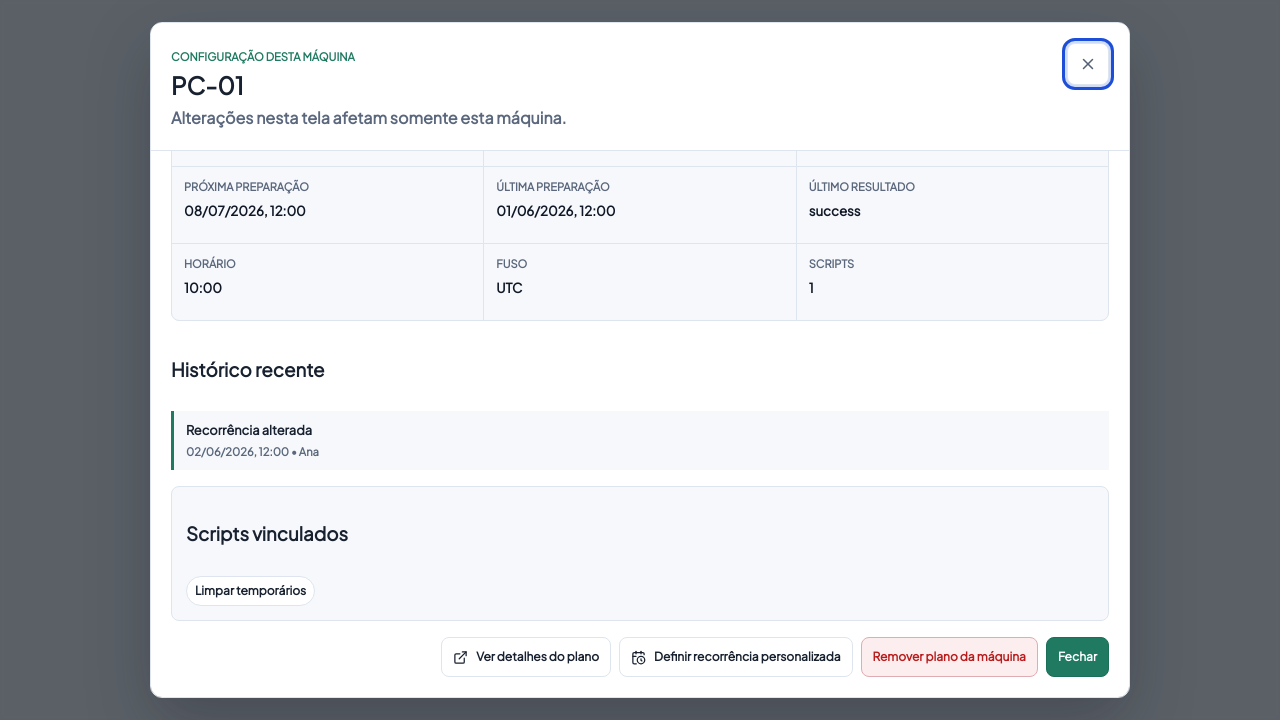
Test: AutomationMachineDetails - recorrência personalizada › valida e salva a recorrência desta máquina
This screenshot has width=1280, height=720.
(page scrolled)
Expected: the text "Recorrência alterada" is shown, [186,422,312,438]
Step 1. Click the button "Definir recorrência personalizada" → (736, 657), box [619,637,853,677]
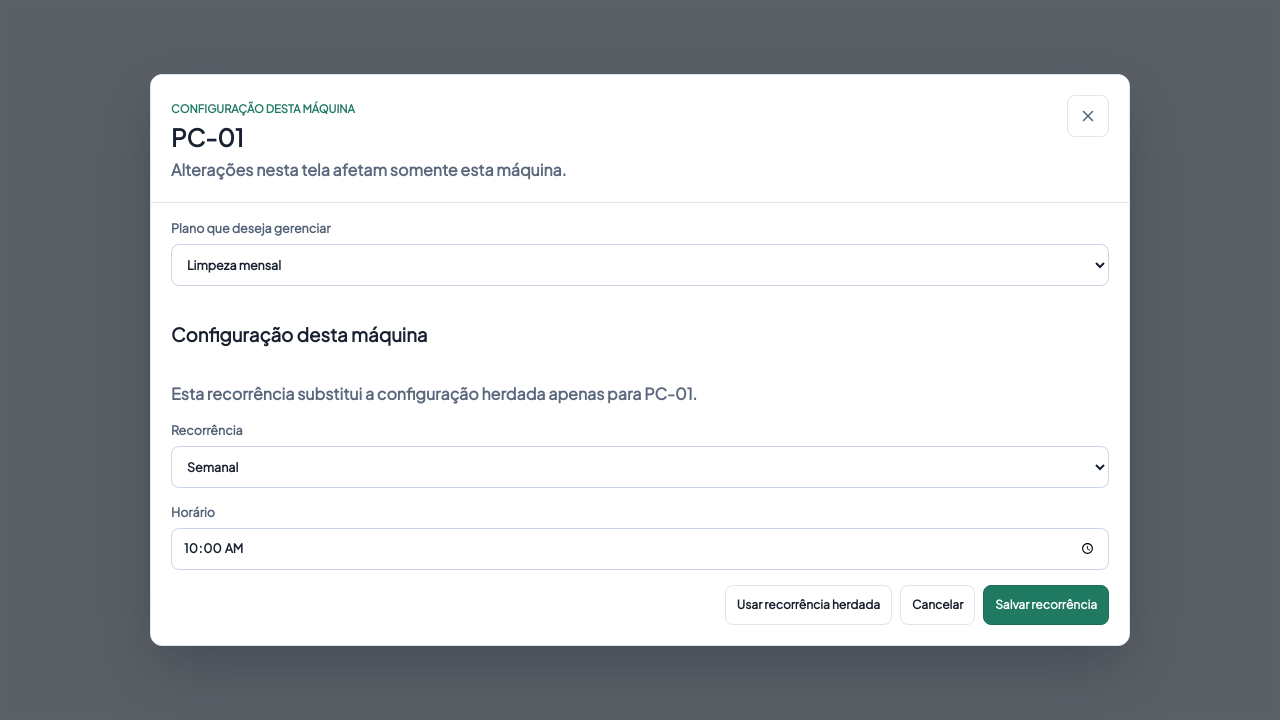
Expected: the text "Esta recorrência substitui a configuração herdada apenas para PC-01." is shown, [171,383,697,404]
Step 2. Select "Personalizada" in the dropdown labelled "Recorrência" → (640, 467), box [171,446,1109,488]
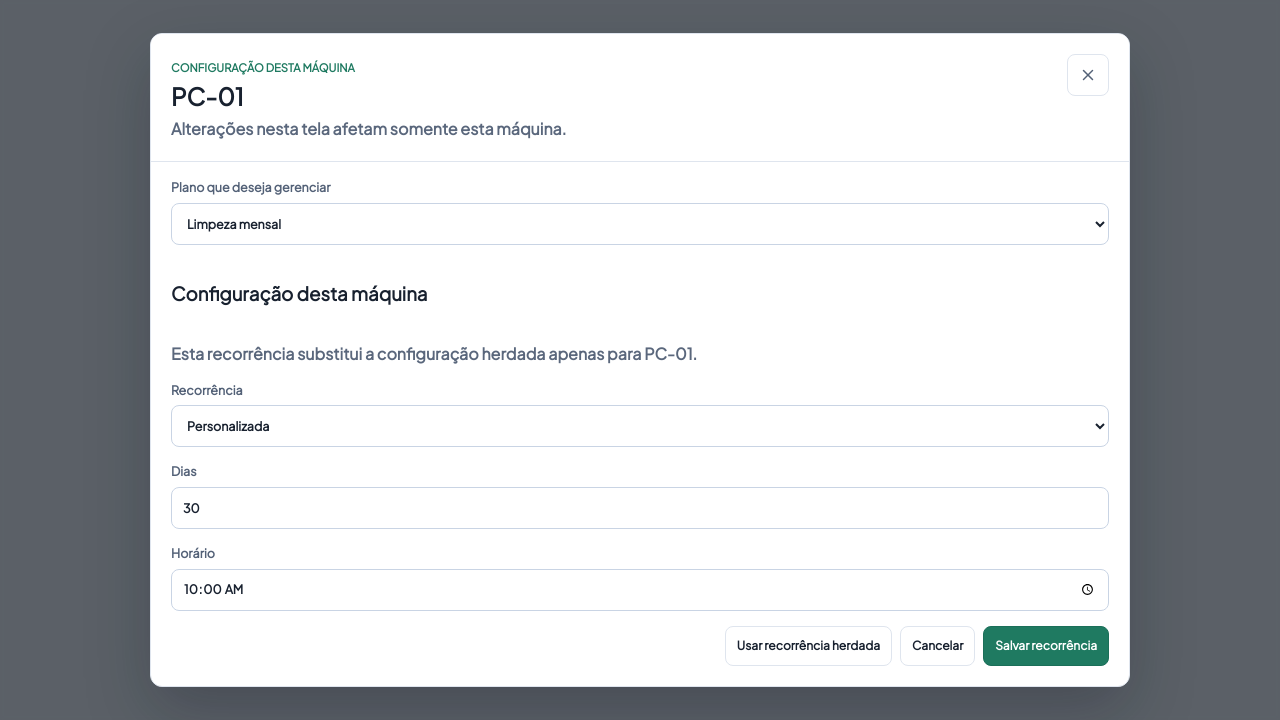
Step 3. Replace the text in the number field labelled "Dias" with "500" → (640, 508), box [171,487,1109,529]
Step 4. Click the button "Salvar recorrência" → (1046, 646), box [983,626,1109,666]
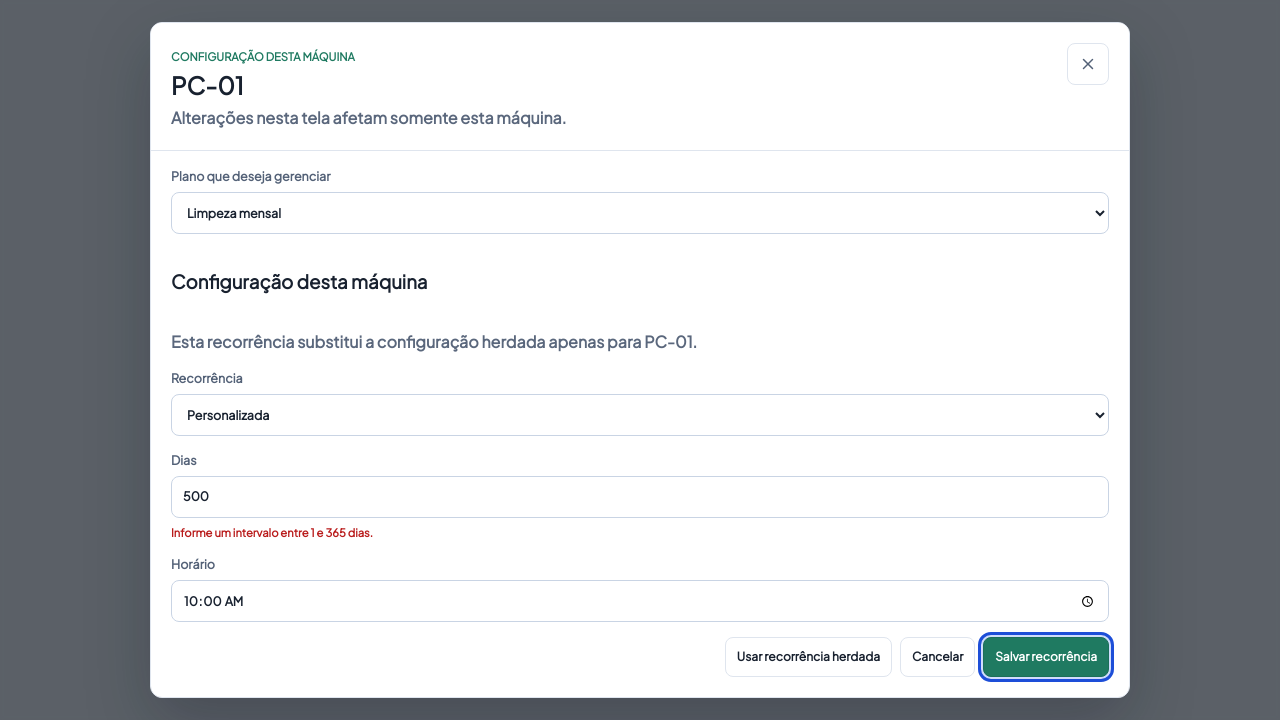
Expected: the text "Informe um intervalo entre 1 e 365 dias." is shown, [171,525,373,539]
Step 5. Replace the text in the number field labelled "Dias Informe um intervalo entre 1 e 365 dias." with "20" → (640, 497), box [171,476,1109,518]
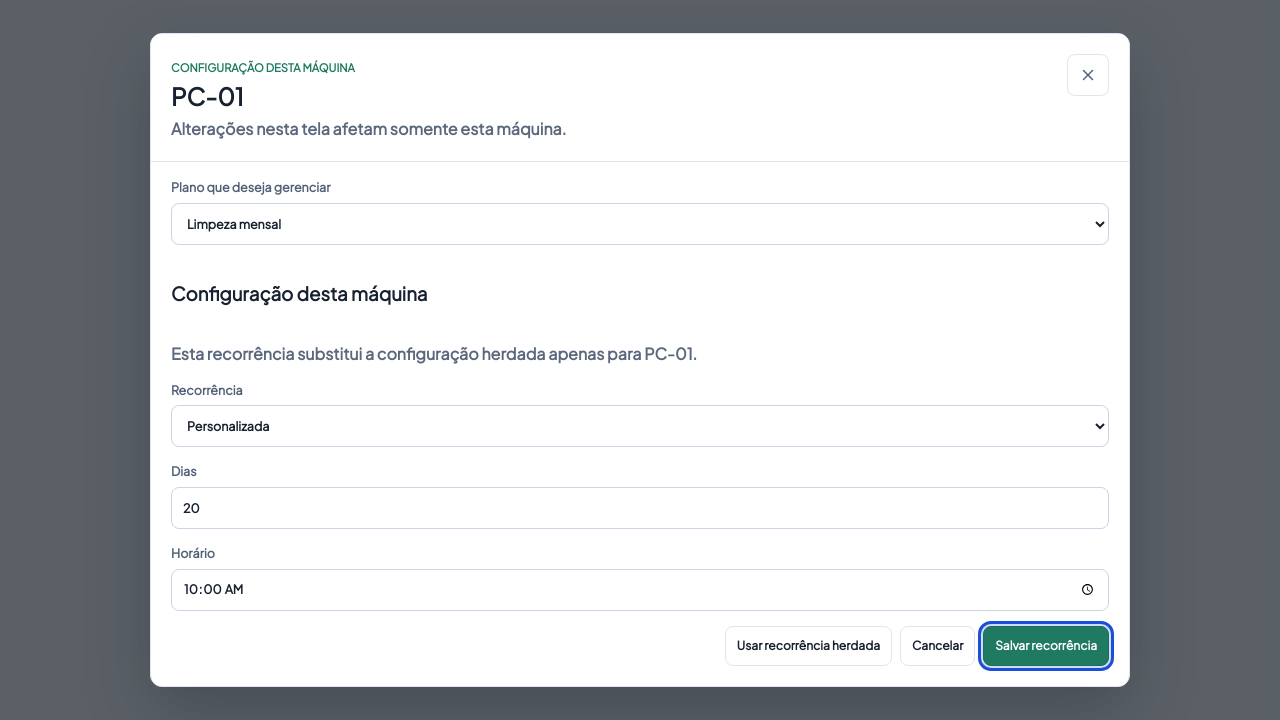
Step 6. Replace the text in the time field labelled "Horário" with "22:30" → (640, 590), box [171,569,1109,611]
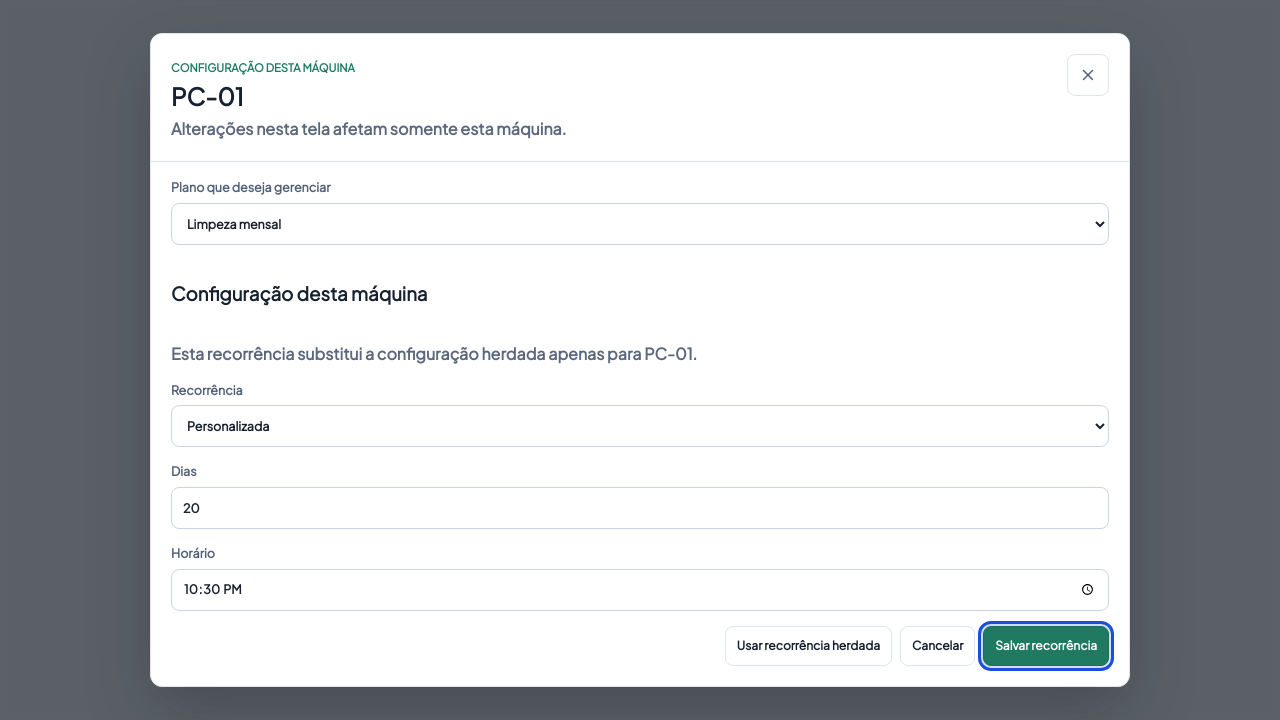
Step 7. Click the button "Salvar recorrência" → (1046, 646), box [983,626,1109,666]
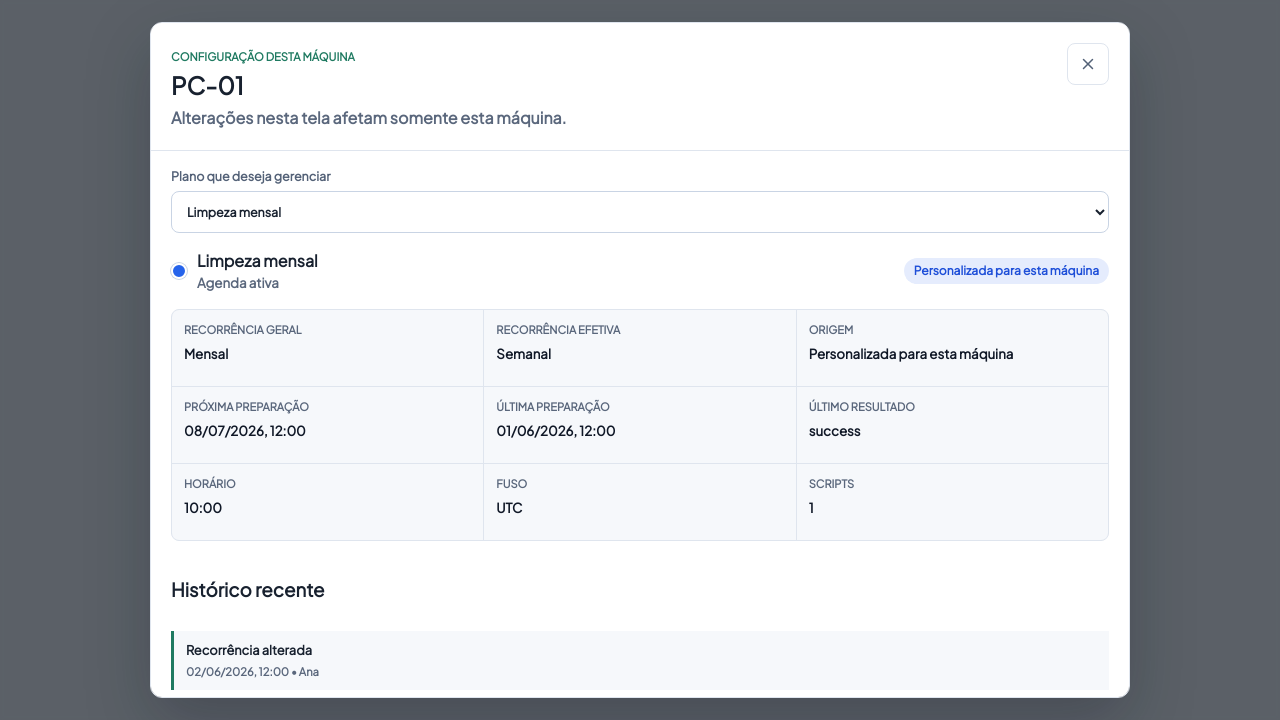
Expected: the label labelled "Dias" is gone
